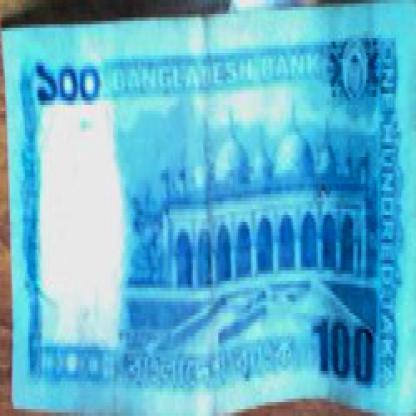one hundred taka: (310, 316, 376, 388), (32, 52, 103, 111)
